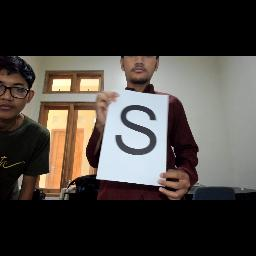s: (114, 104, 160, 158)
